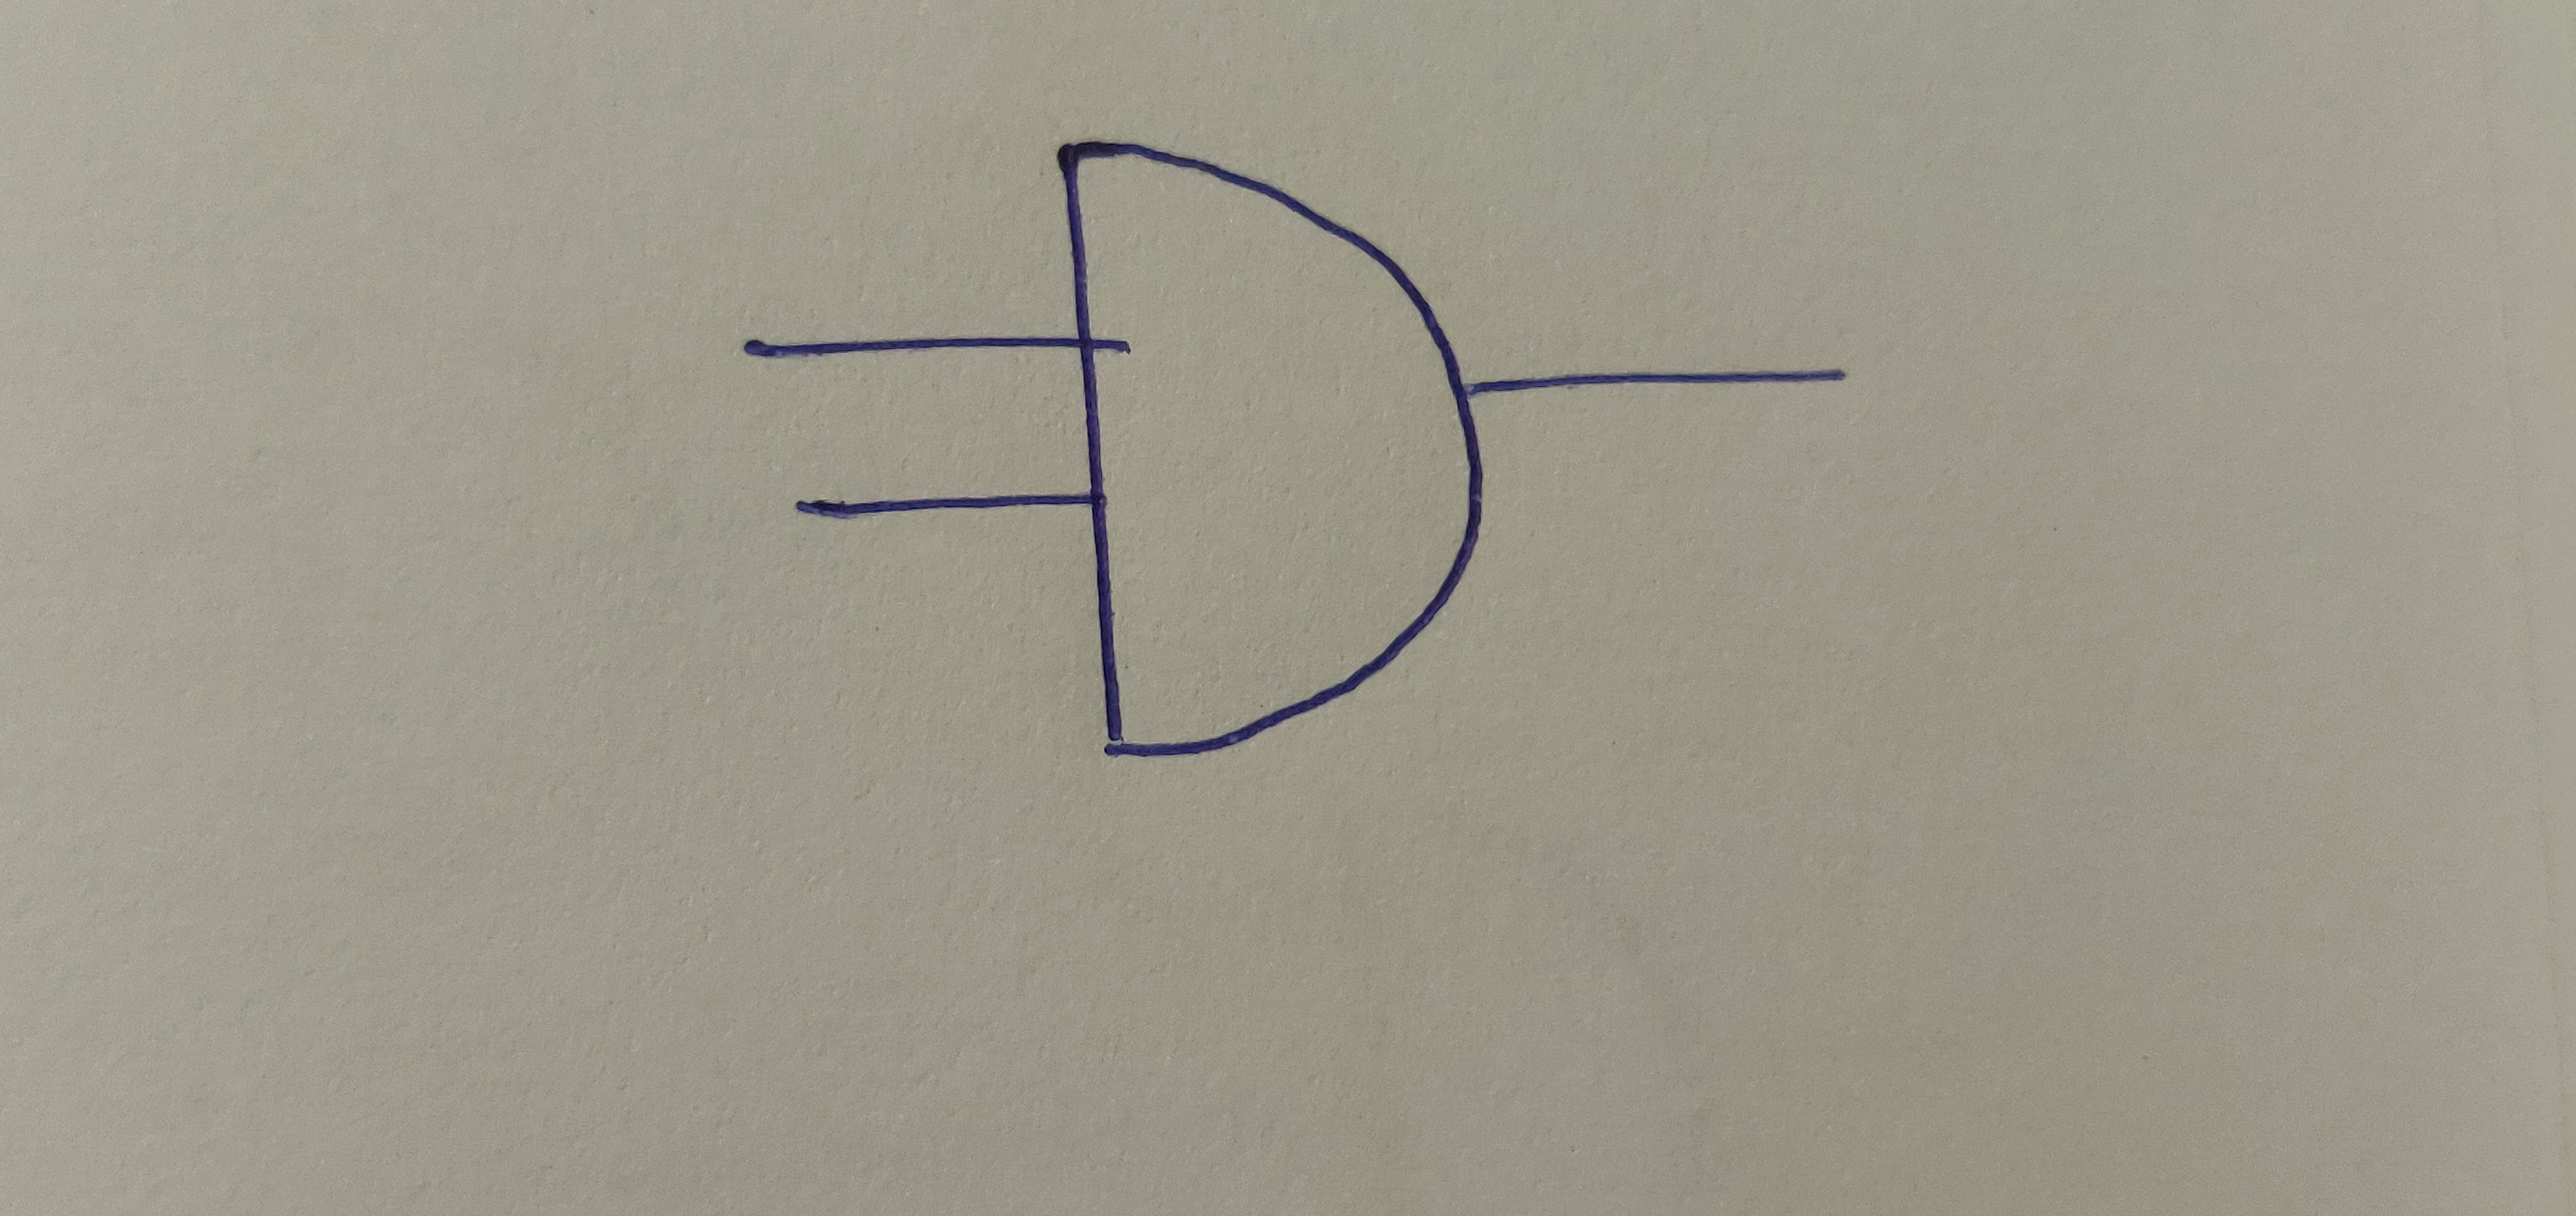and: (1050, 135, 1492, 762)
